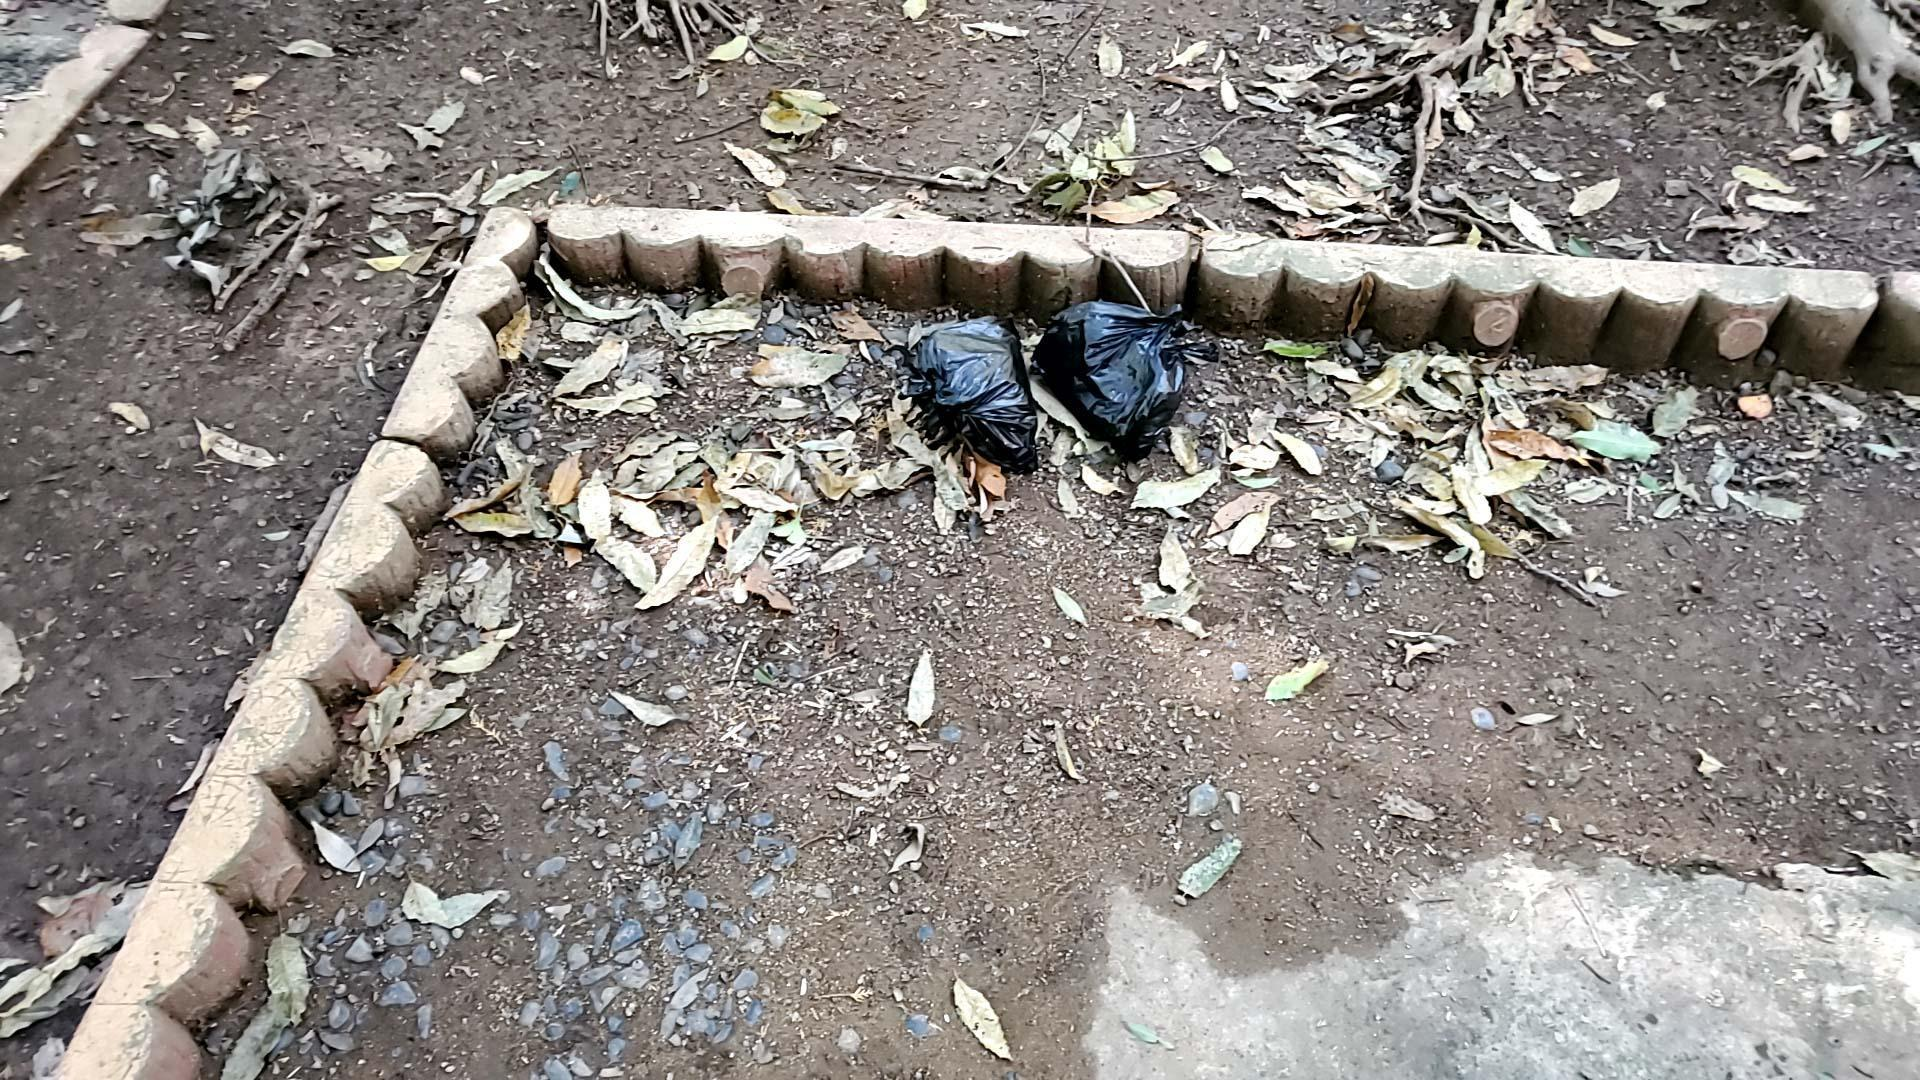black_bag: (1035, 293, 1197, 465), (897, 305, 1047, 487)
